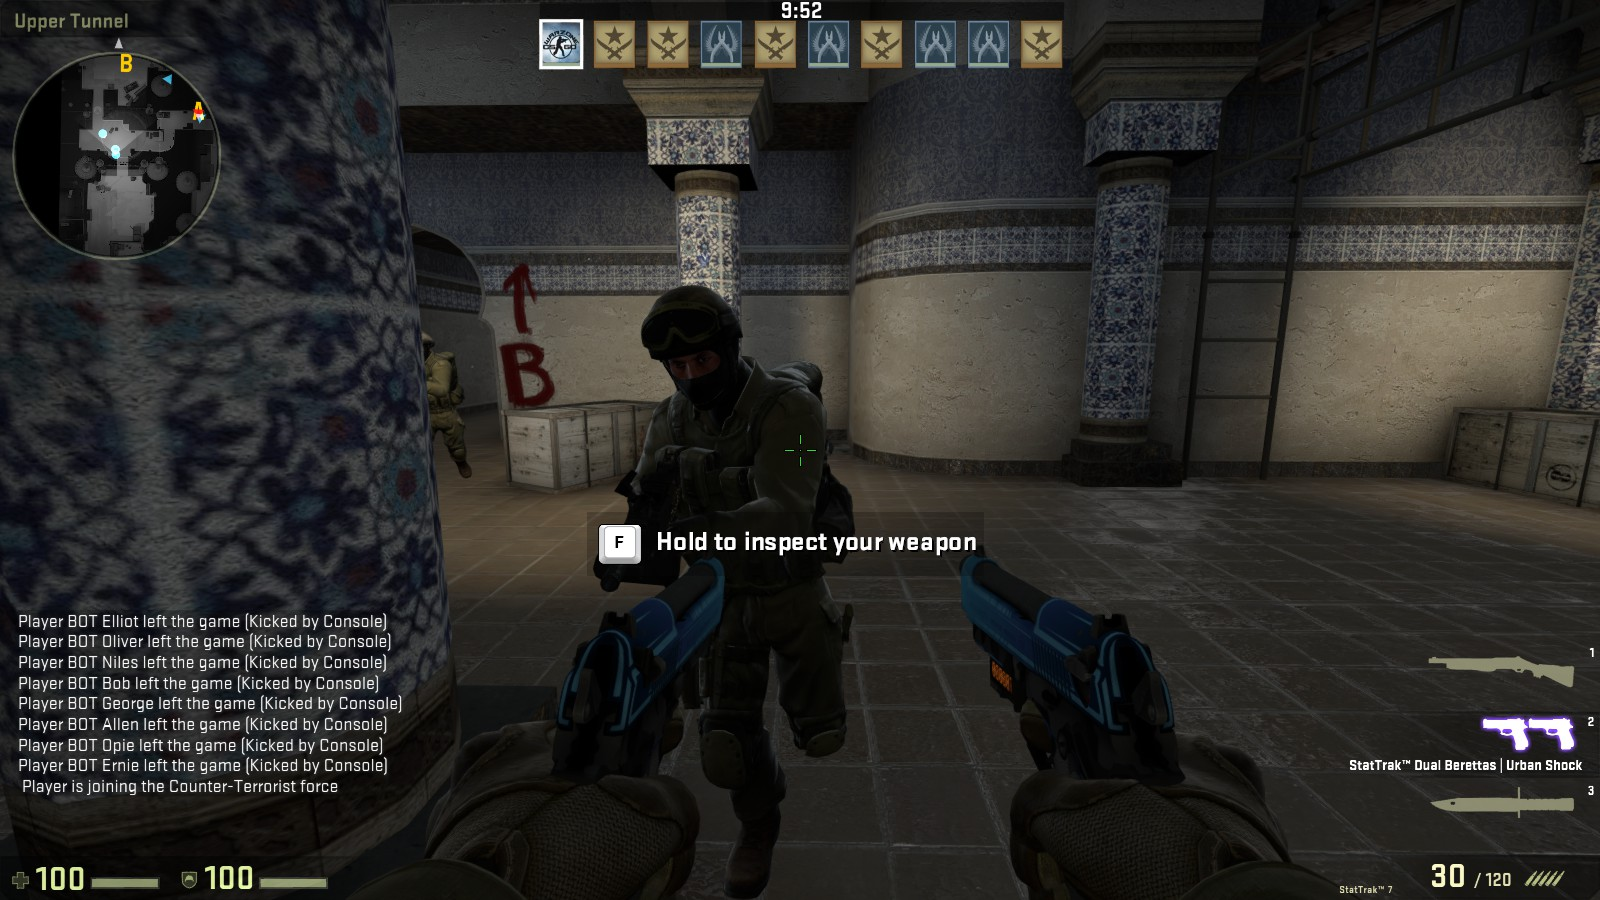c: (611, 276, 858, 859), (419, 329, 468, 479)
ch: (631, 273, 768, 416), (418, 327, 438, 362)
